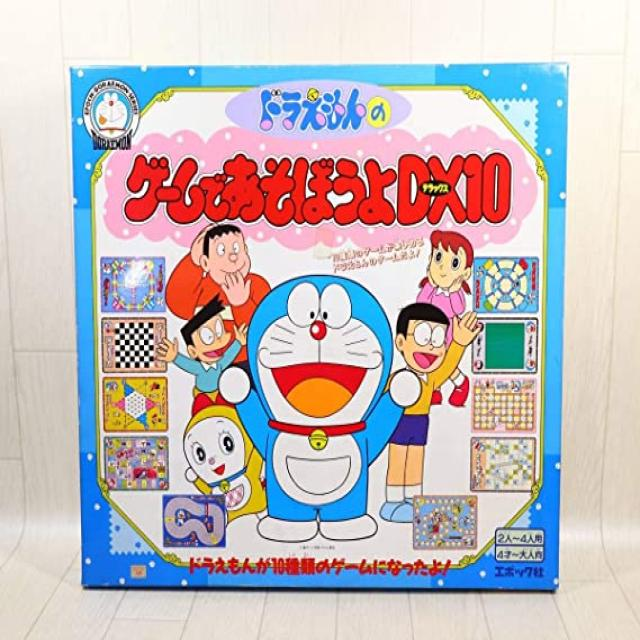doraemon: (241, 272, 399, 445)
jaian: (196, 222, 254, 288)
nobita: (396, 299, 449, 377)
shizuka: (418, 226, 477, 294)
suneo: (179, 296, 234, 365)
